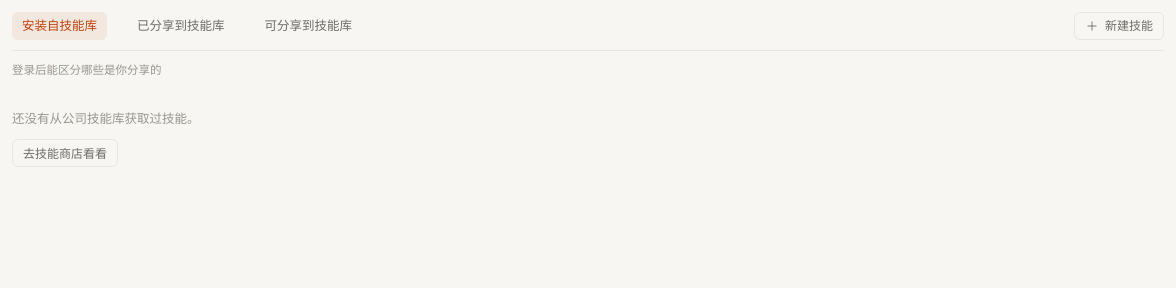
三区排列与判定表接线 › 🔴 shareable:有外部来源且外源有新版 → 「更新」是主按钮,「分享」退进「更多」
What coordinates should you click on to do the following:
click the tab "可分享到技能库"
I would click on:
 (308, 26)
Its box is [264, 16, 352, 36].
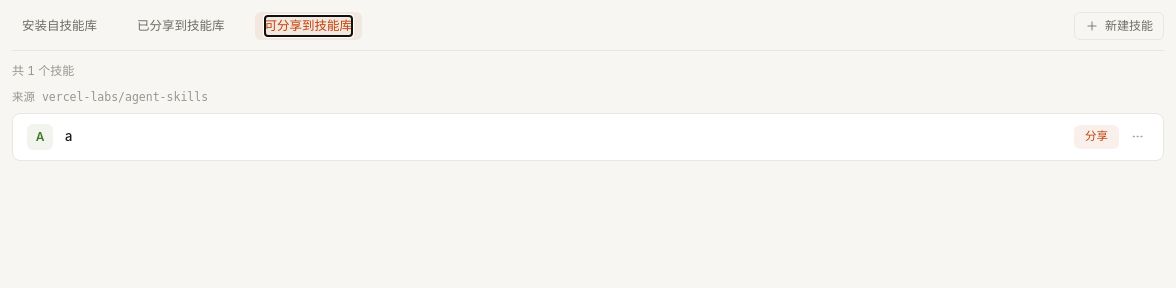
Expected: the button "分享" is shown, [1074, 125, 1119, 149]
Expected: the text "React 最佳实践" is not shown
What coordinates should you click on to do the following:
click the button with test id "row-a-body"
I would click on:
 (40, 137)
Its box is [27, 124, 1062, 150].
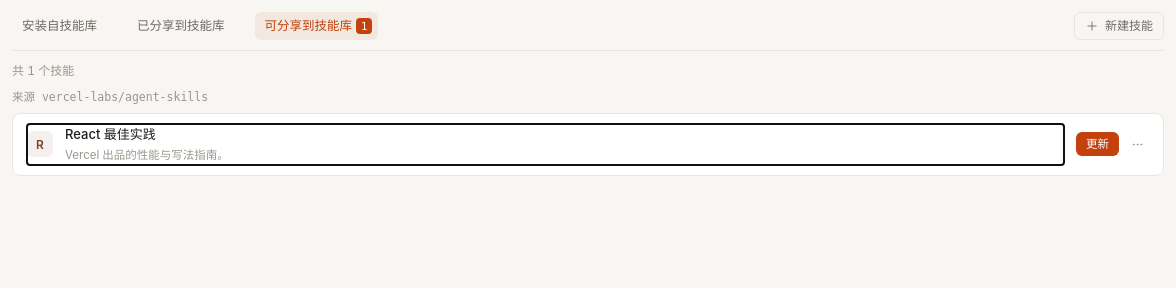
Expected: the button "更新" is shown, [1076, 132, 1119, 156]
Expected: the text "React 最佳实践" is shown, [65, 124, 156, 144]
Expected: the text "Vercel 出品的性能与写法指南。" is shown, [65, 148, 229, 162]
What coordinates should you click on to do the following:
click the button named "更多"
I would click on:
 (1137, 144)
Its box is [1125, 132, 1149, 156].
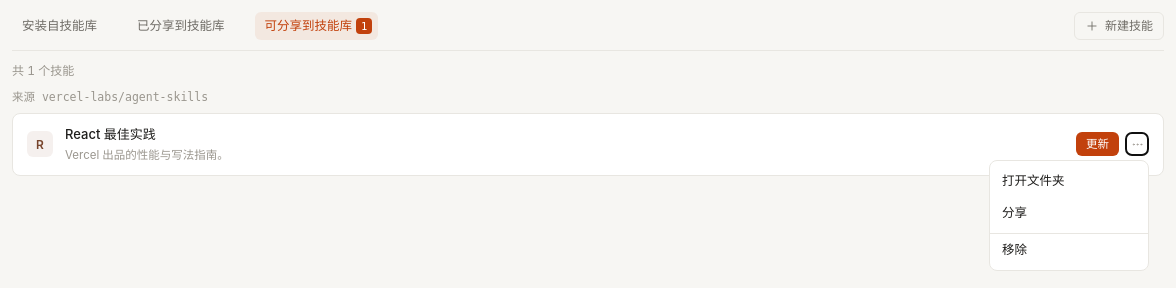
Expected: the menu item "分享" is shown, [990, 197, 1148, 229]
